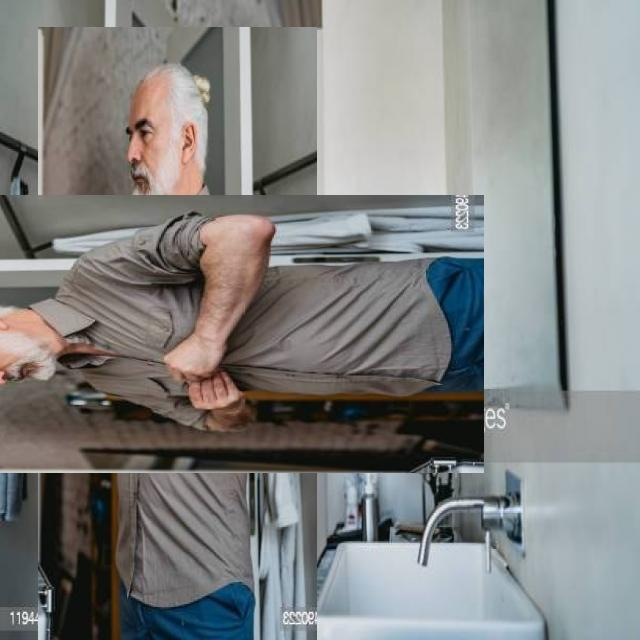NotFall: (16, 246, 517, 477)
